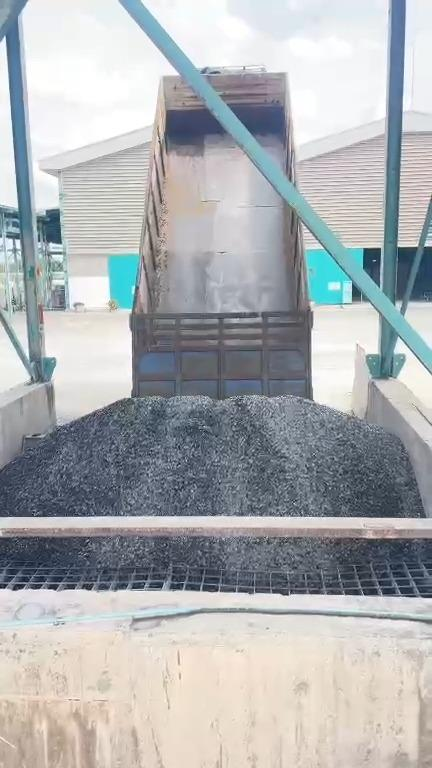gravel: (0, 397, 422, 515), (0, 538, 419, 569)
